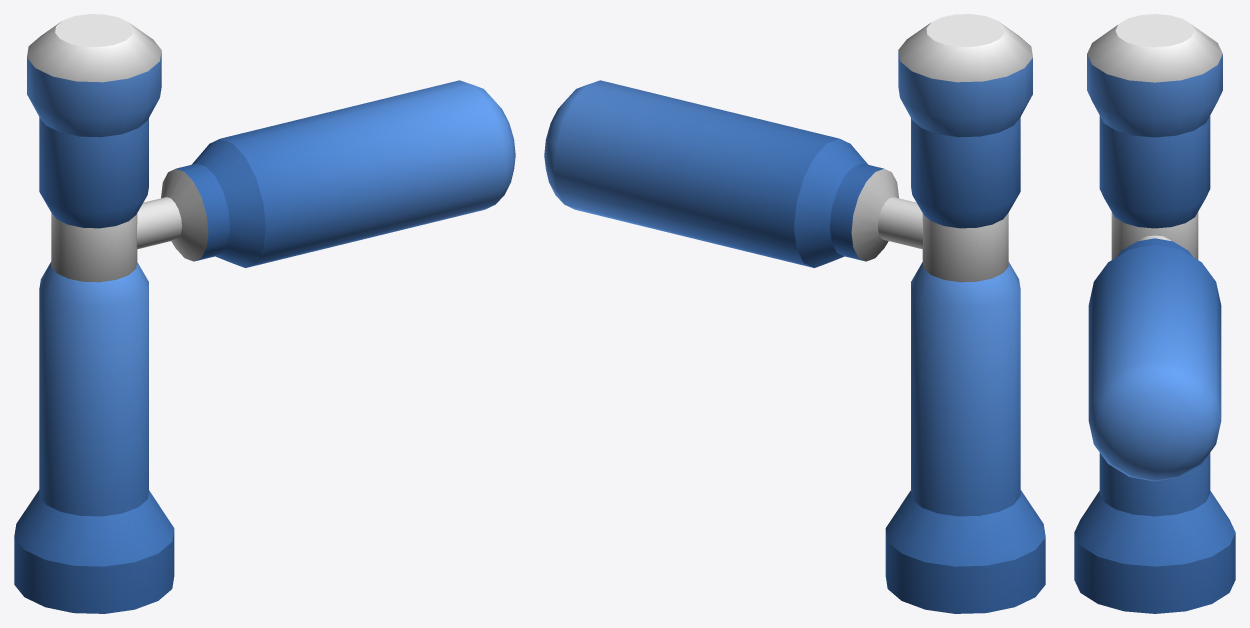
File: Obstacle01.fbx
3 renders of one model, left to right at view 1: azimuth 30°, elevation 25°; view 2: azimuth 150°, elevation 25°; view 3: azimuth 270°, elevation 25°, orthographic.
Visible parts, largest first — view 1: Base, Arm; view 2: Base, Arm; view 3: Base, Arm.
Part boxes in pixels (<box>): Base: <box>14,14,174,613</box>; Arm: <box>137,80,515,267</box>; Base: <box>885,14,1045,613</box>; Arm: <box>544,80,922,267</box>; Base: <box>1074,14,1235,613</box>; Arm: <box>1088,235,1221,481</box>.
Size of the model in its own units: 249 by 274 by 73.
